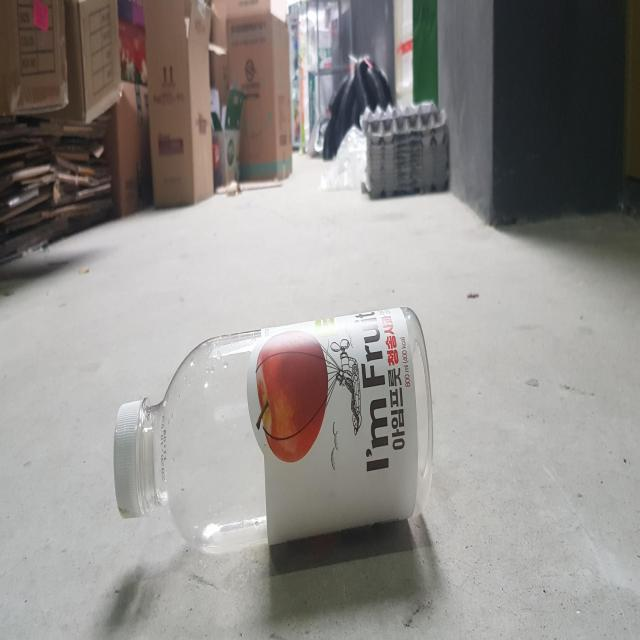plastic: (114, 306, 433, 552)
